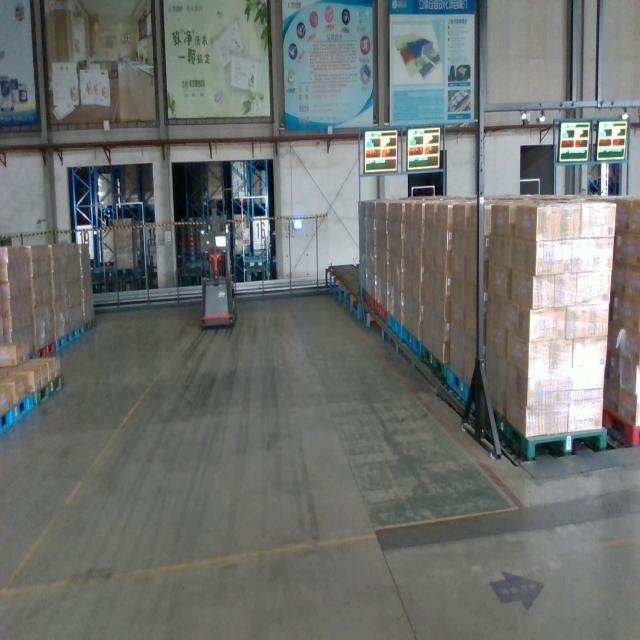forklift: (199, 197, 238, 330)
